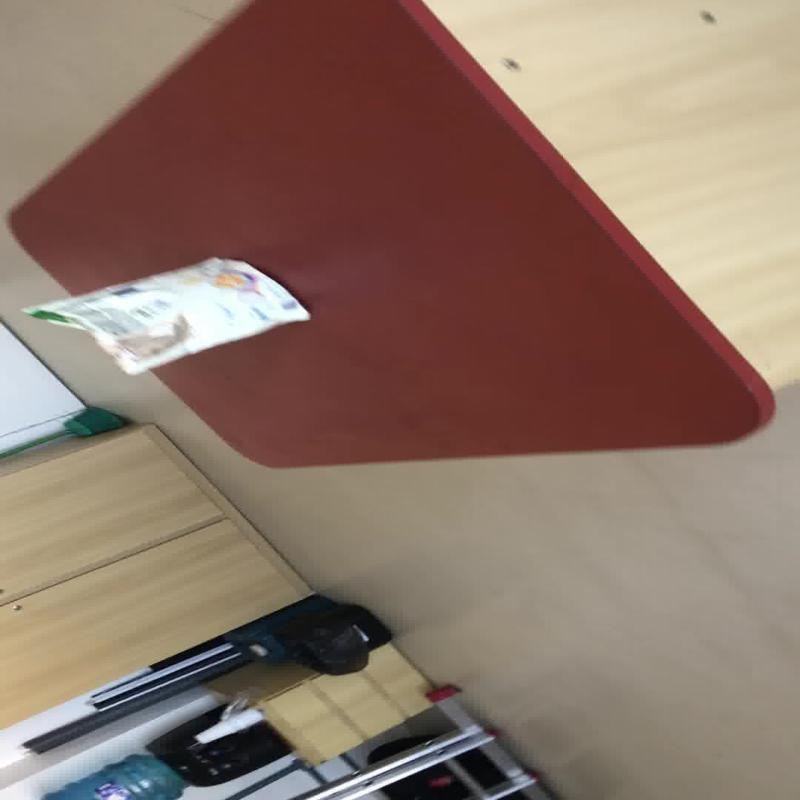corn flakes: (19, 254, 310, 375)
